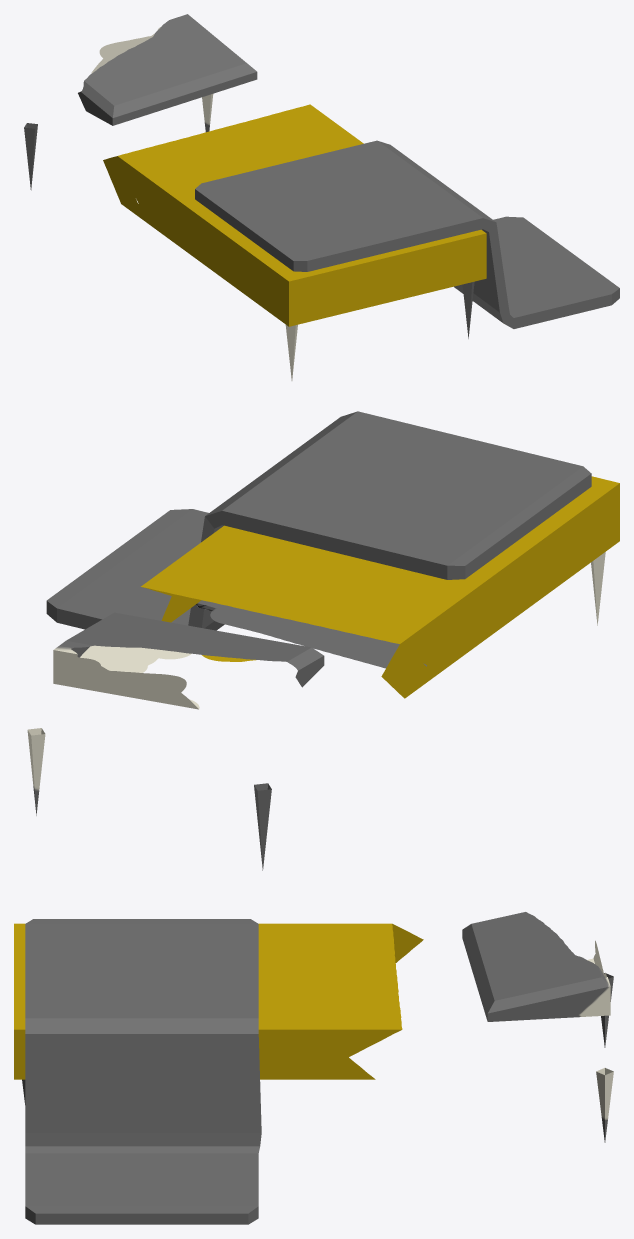
File: Bed.fbx
The picture shows the model from 3 angles, top to bottom: view 1: azimuth 30°, elevation 25°; view 2: azimuth 150°, elevation 25°; view 3: azimuth 270°, elevation 25°; orthographic projection. The views are drawn at different scales.
Parts seen in each view (by area): view 1: Bed; view 2: Bed; view 3: Bed.
Part boxes in pixels (bbox=[...]): Bed: bbox=[24, 14, 619, 380]; Bed: bbox=[27, 411, 619, 870]; Bed: bbox=[14, 912, 613, 1224].
Size of the model in its own units: 486 by 192 by 679.
